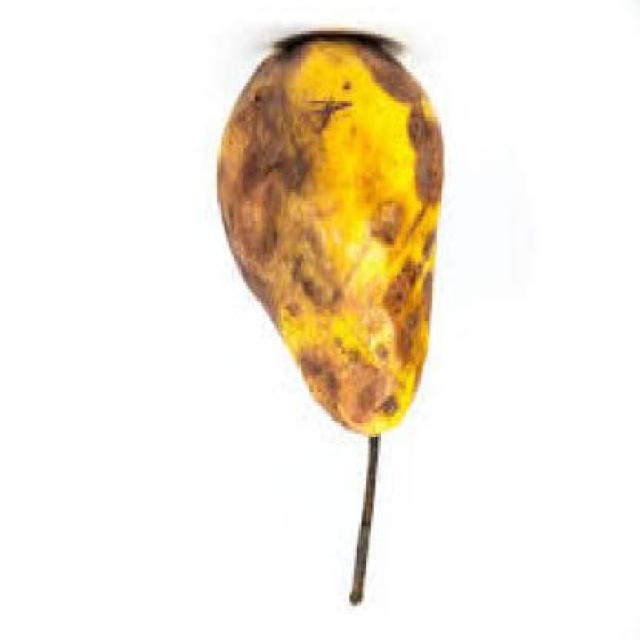BIODEGRADABLE: (219, 34, 447, 609)
